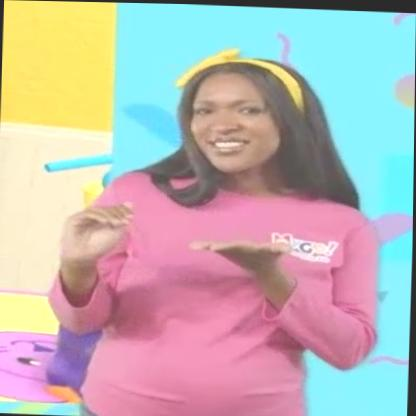ExcuseMe: (58, 187, 302, 302)
